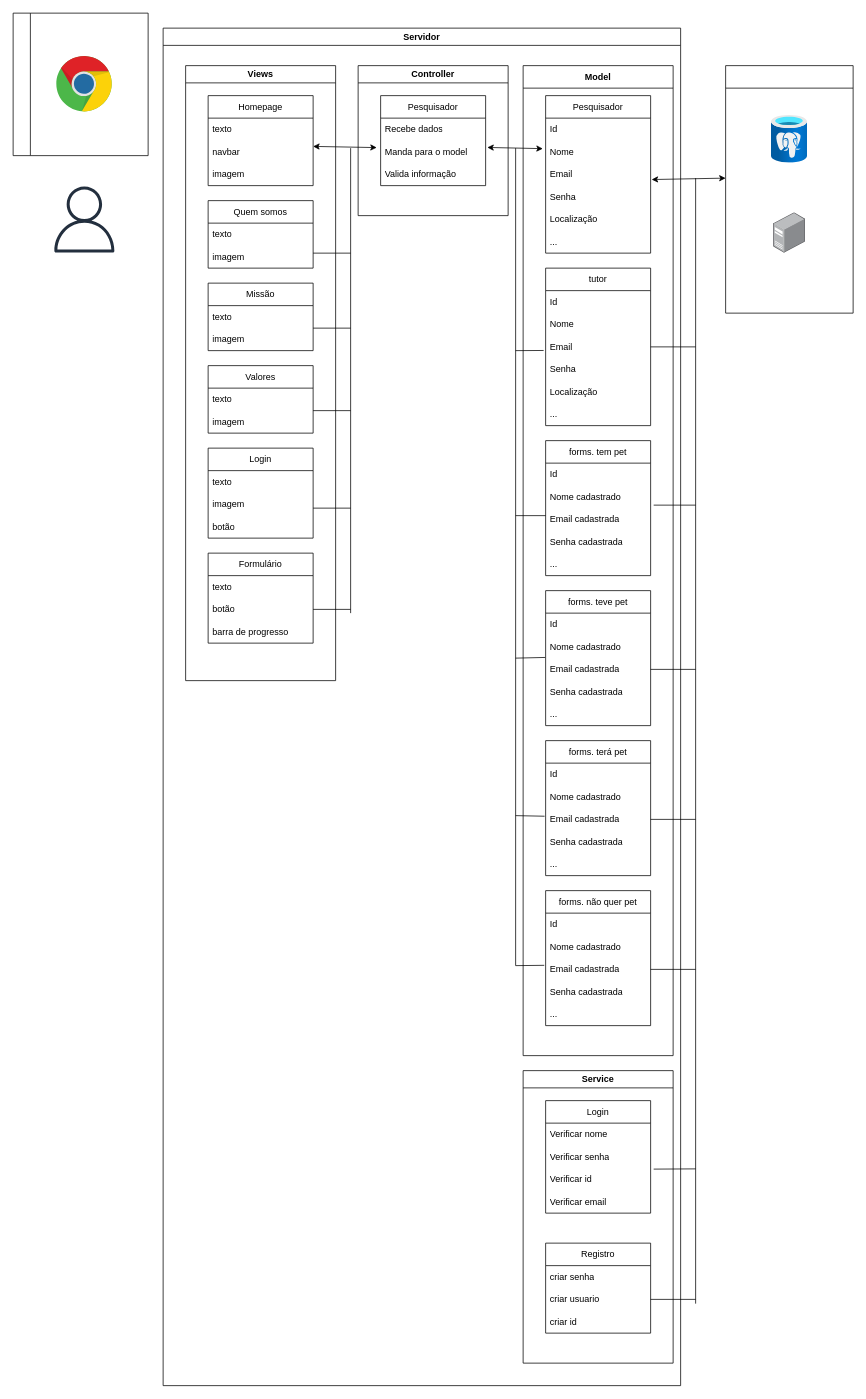
This 866x1399 diagram has some shape labels left out. The shapes that lost their labels are listed below. From the top down, each one's box as (x1, y1, x2, y2) in pixels, then its label:
(12, 12, 148, 156): Cliente
(725, 65, 853, 313): banco de dados
(42, 177, 126, 261): Usuario
